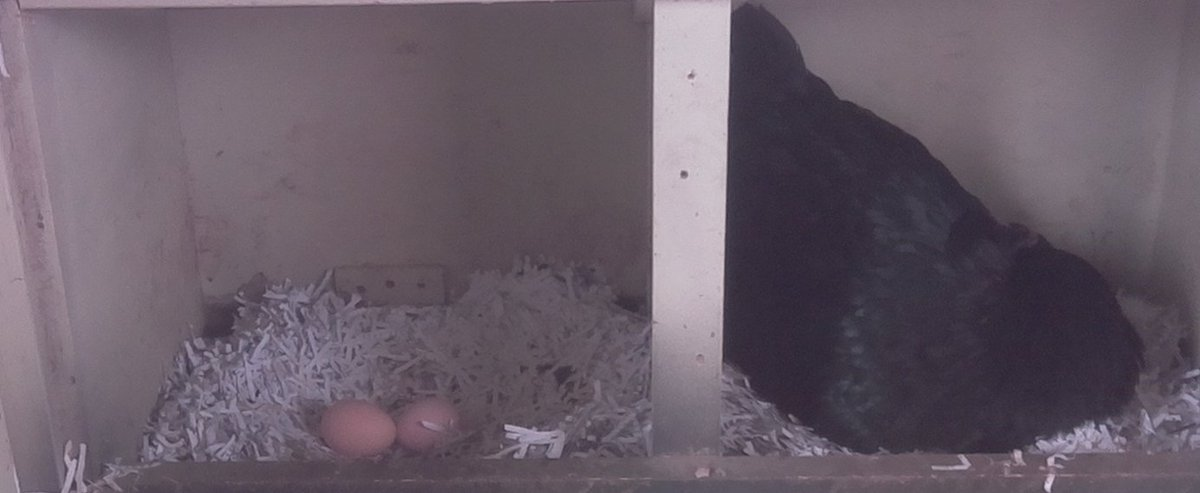egg: (318, 394, 400, 459), (394, 390, 466, 454)
hen: (733, 2, 1152, 450)
